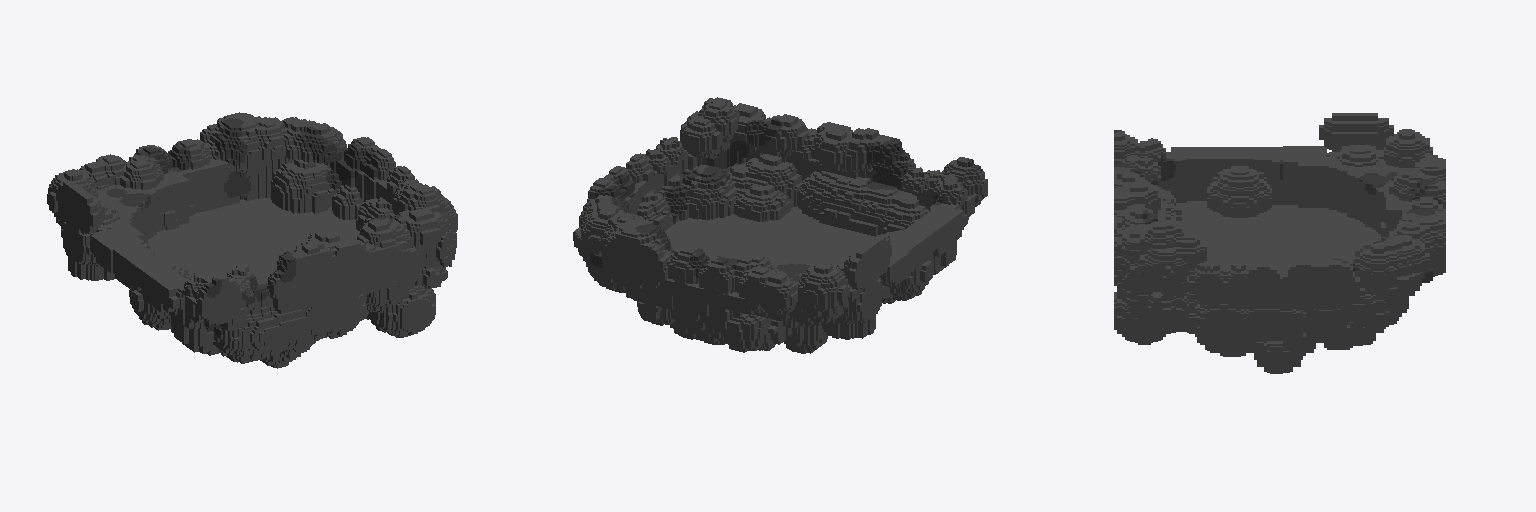
The picture shows the model from 3 angles: view 1: azimuth 30°, elevation 25°; view 2: azimuth 150°, elevation 25°; view 3: azimuth 270°, elevation 25°; orthographic projection.
Parts seen in each view (by area): view 1: Model; view 2: Model; view 3: Model.
Part boxes in pixels (x1,y1,x2,y2): Model: (47, 112, 457, 368); Model: (573, 97, 987, 353); Model: (1114, 113, 1445, 373).
Bounding box in the file's own units: 32 × 18 × 32.
Materials: 1 (1 with a texture image).